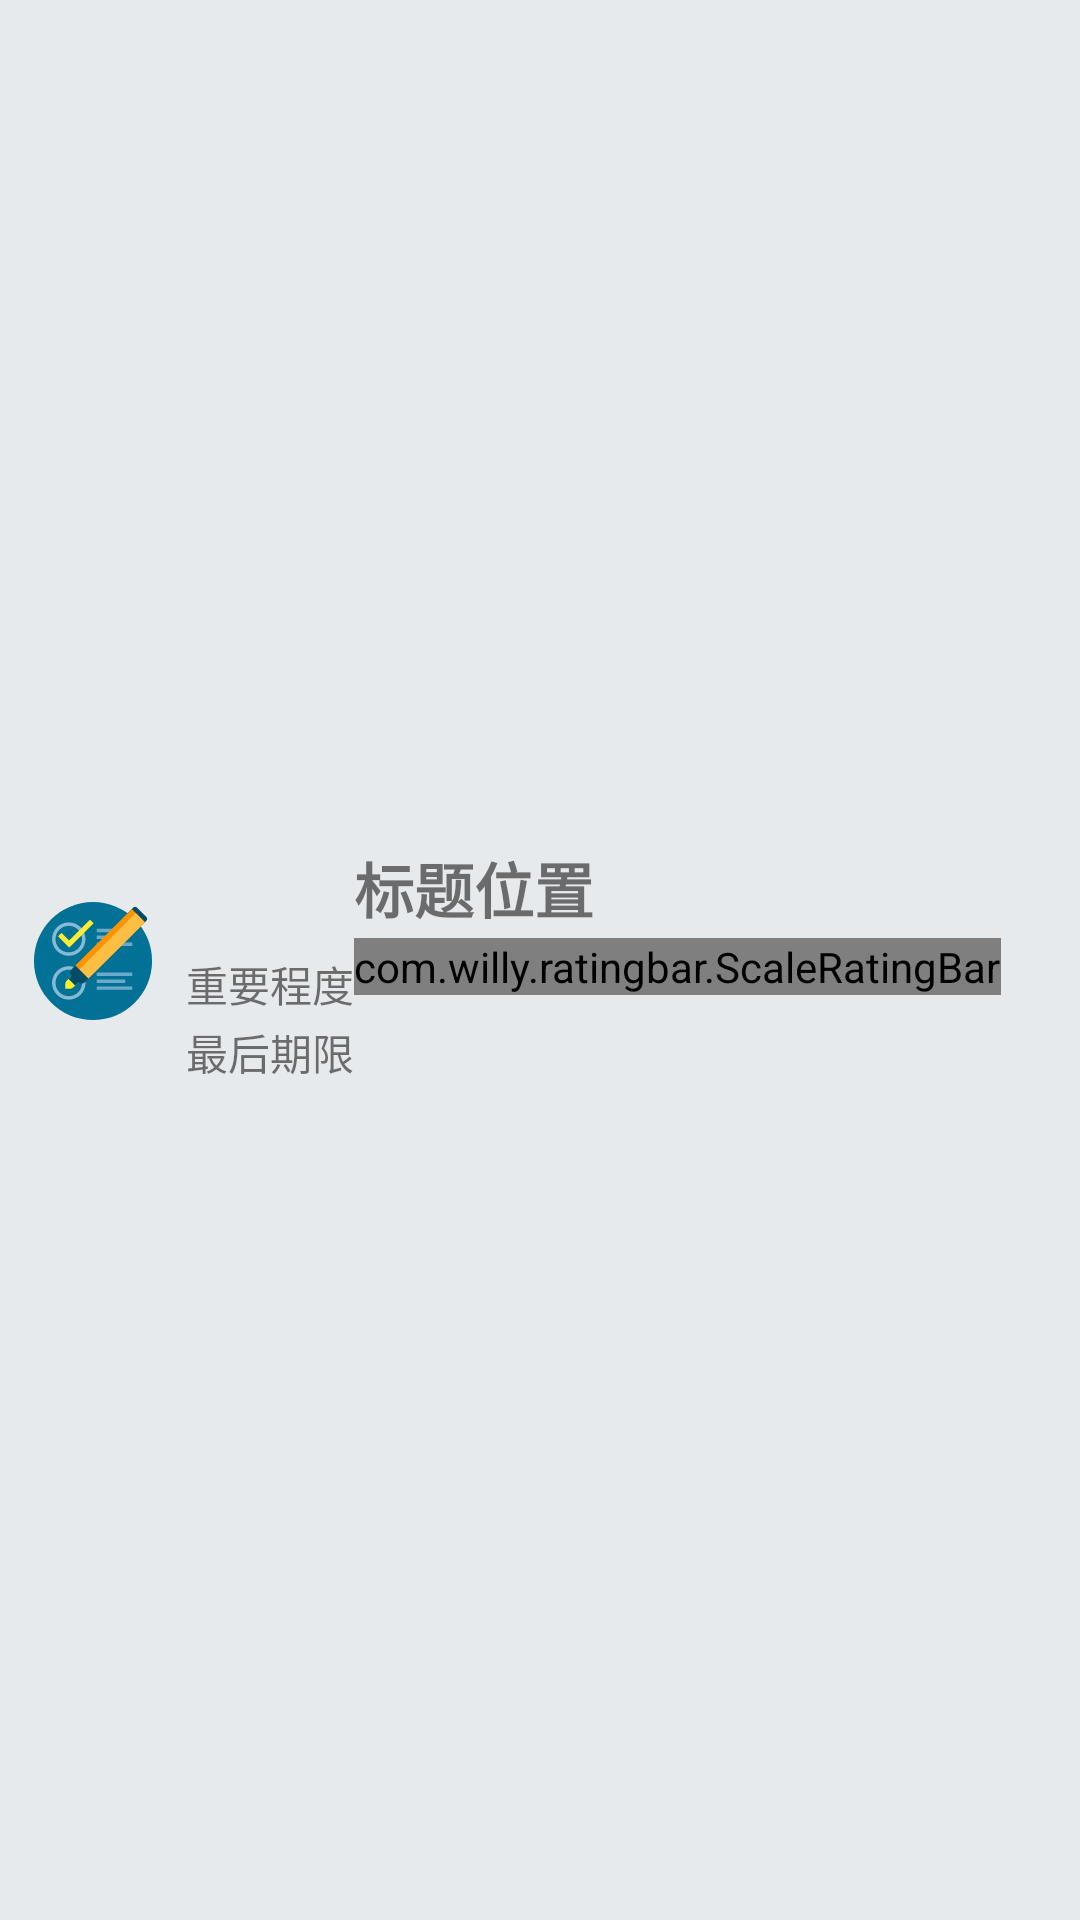

Icon click points for this 1080×1920 phone screenshot, format point (x, y):
task left: point (93, 961)
